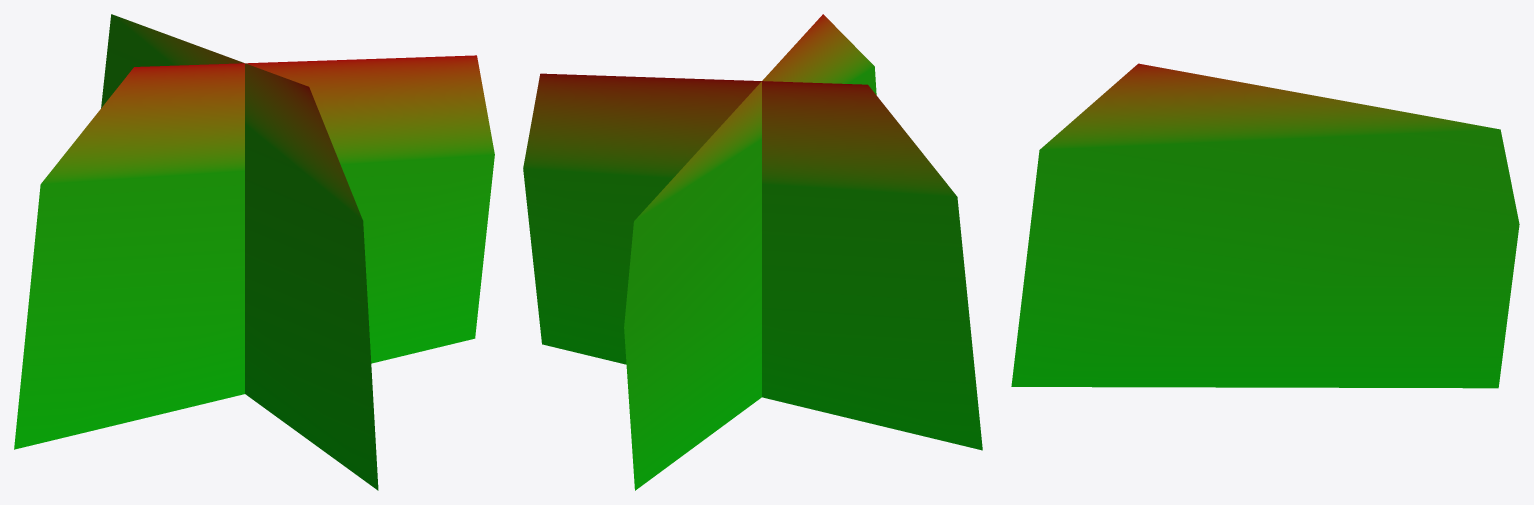
Rendered from Var2_LOD4.fbx.
3 views of the same model, side by side, from view 1: azimuth 30°, elevation 25°; view 2: azimuth 150°, elevation 25°; view 3: azimuth 270°, elevation 25° (orthographic). The views are drawn at different scales.
Visible parts, largest first — view 1: _6gx9_Var2_LOD4; view 2: _6gx9_Var2_LOD4; view 3: _6gx9_Var2_LOD4.
Part boxes in pixels (x1,y1,x2,y2): _6gx9_Var2_LOD4: (14,14,494,490); _6gx9_Var2_LOD4: (523,14,982,490); _6gx9_Var2_LOD4: (1011,63,1519,388).
Size of the model in its own units: 32.51 by 22.92 by 32.51.
